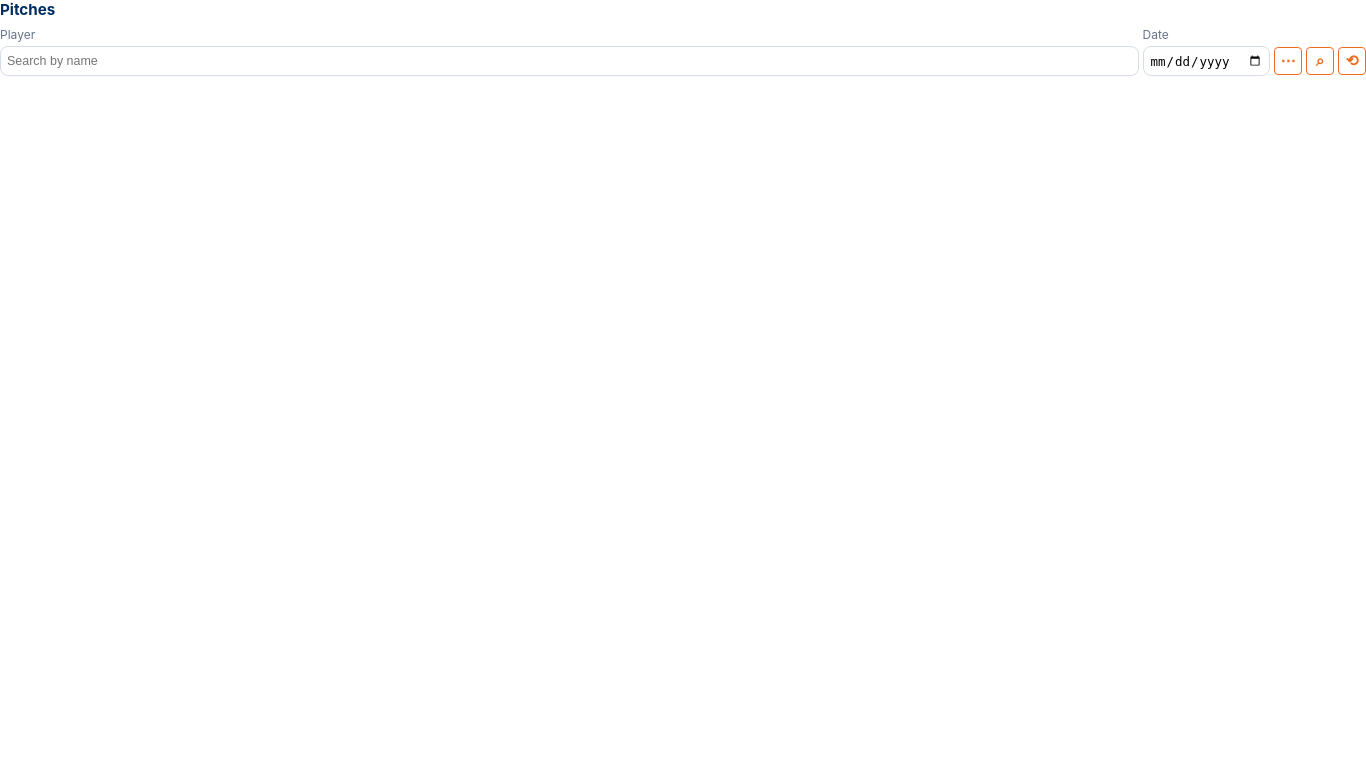
PitchFilterControls › keeps core filters visible and opens advanced dialog
Expected: the field labelled "Player" is shown, 0,46 -> 1138,76
Expected: the date field labelled "Date" is shown, 1142,46 -> 1270,76
Click the button named "Advanced pitch filters": (1288, 61) 1274,47 -> 1302,75
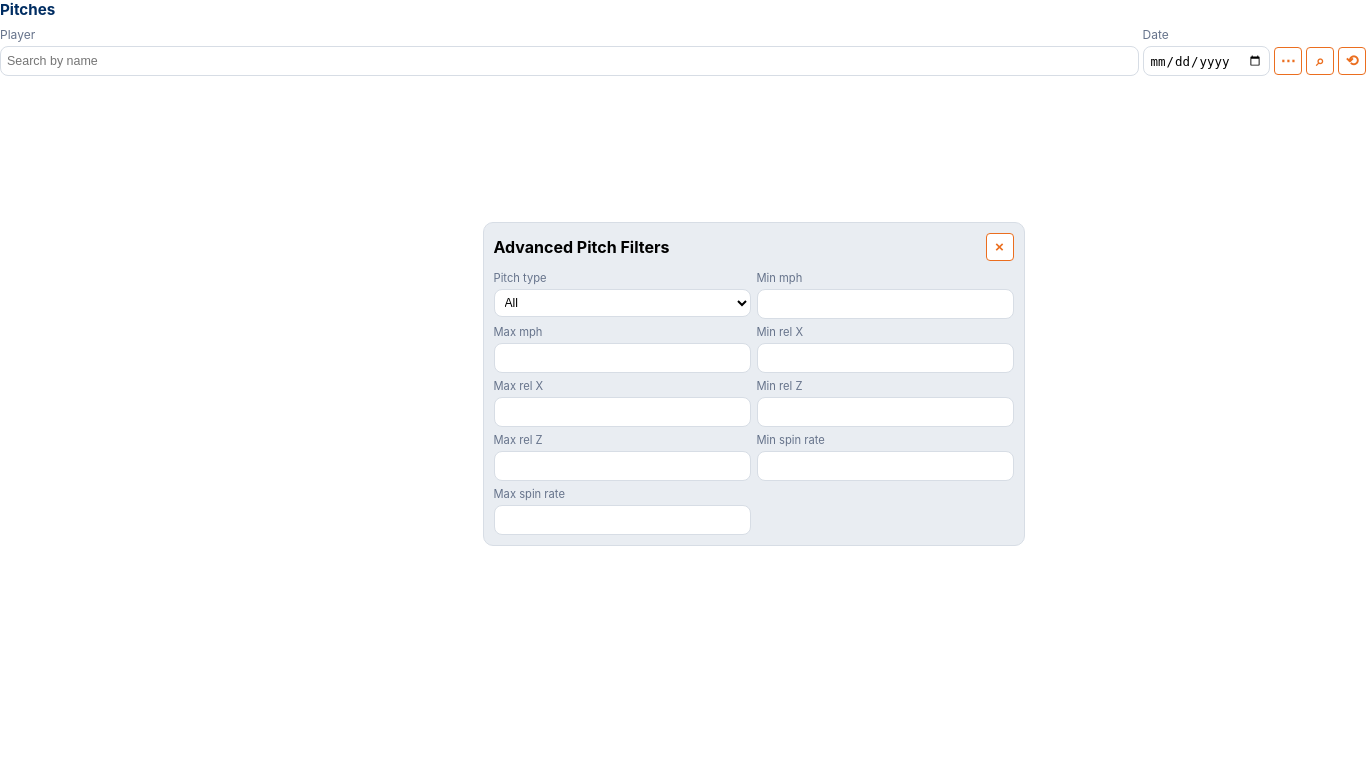
Result: the dialog "Advanced Pitch Filters" is shown at 482,222 -> 1024,546
Result: the dropdown labelled "Pitch type" is shown at 494,289 -> 750,317
Result: the field labelled "Min mph" is shown at 756,289 -> 1014,319
